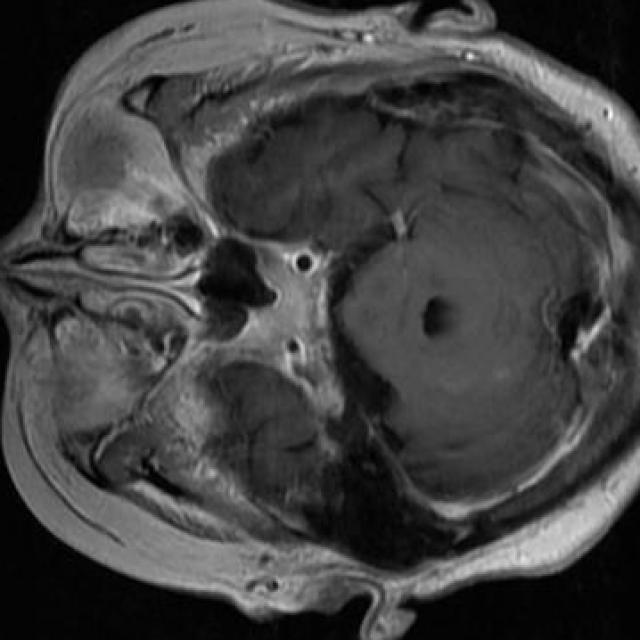pituitary: (241, 242, 330, 371)
